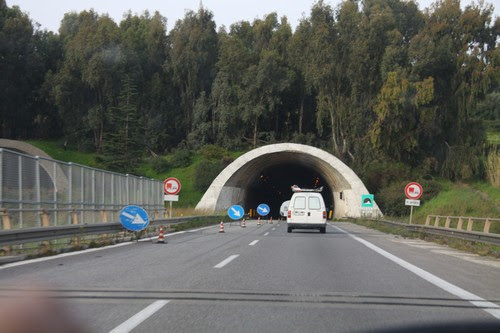car: (286, 183, 328, 233)
